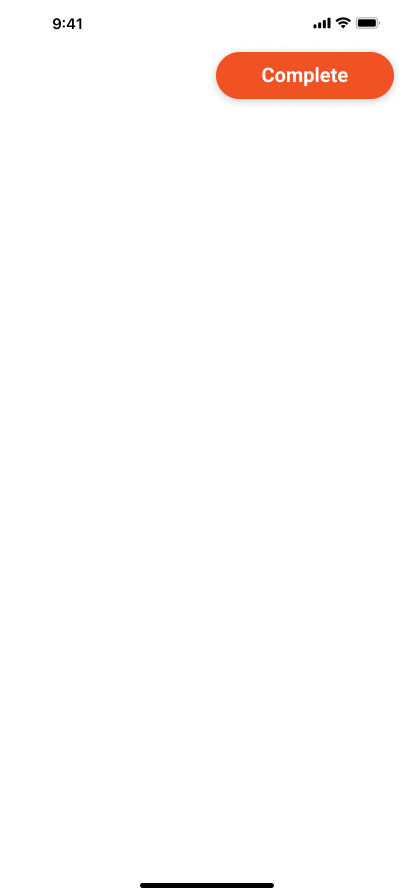Buttons: (206, 44, 404, 111)
Home Indicator: (0, 862, 414, 896)
Status Bar: (0, 0, 414, 44)
